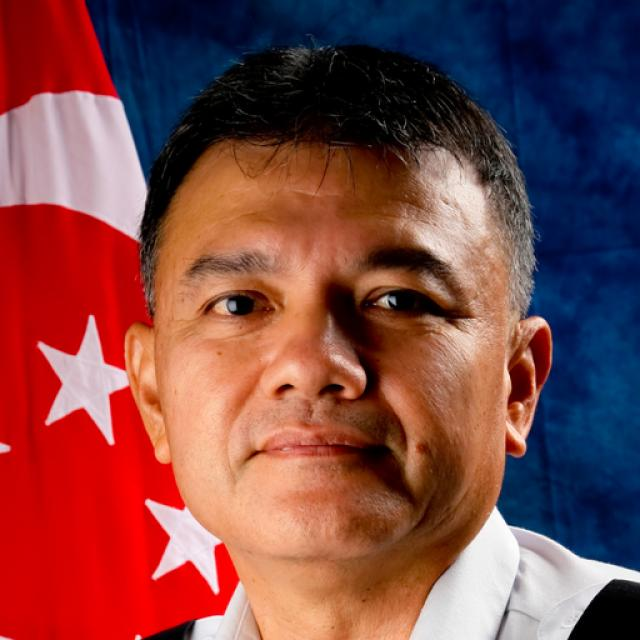Acne: (404, 435, 430, 462)
